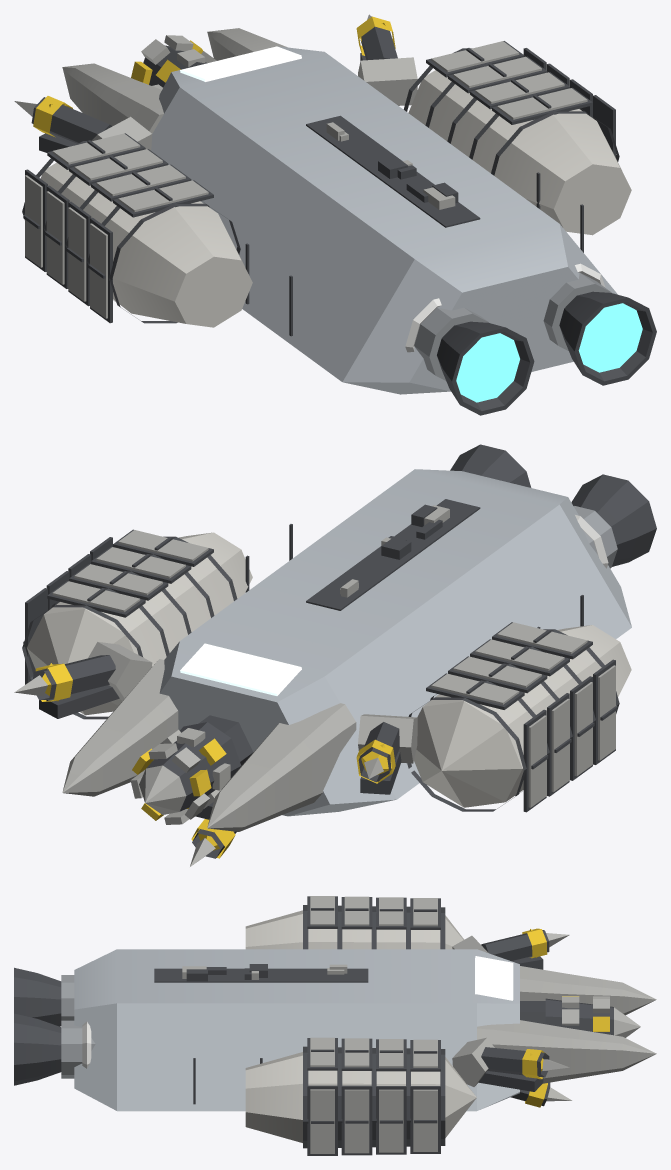
File: rockbreaker_ii.glb
3 views of the same model, one above another, from view 1: azimuth 30°, elevation 25°; view 2: azimuth 150°, elevation 25°; view 3: azimuth 270°, elevation 25° (orthographic). The views are drawn at different scales.
Visible parts, largest first — view 1: Hull, Jaw_L, Rotor_Mill, Jaw_R; view 2: Hull, Jaw_L, Rotor_Mill, Jaw_R; view 3: Hull, Jaw_R, Jaw_L, Rotor_Mill.
Boxes of the visible parts, <box> form: Hull: <box>22,16,656,415</box>; Jaw_L: <box>62,63,163,133</box>; Rotor_Mill: <box>131,35,216,89</box>; Jaw_R: <box>207,28,287,60</box>; Hull: <box>22,444,656,858</box>; Jaw_L: <box>207,703,356,831</box>; Rotor_Mill: <box>130,722,241,824</box>; Jaw_R: <box>62,659,178,796</box>; Hull: <box>14,896,550,1155</box>; Jaw_R: <box>477,1020,656,1083</box>; Jaw_L: <box>520,966,656,1015</box>; Rotor_Mill: <box>545,996,640,1037</box>.
Size of the model in its own units: 1.41 by 0.4702 by 2.
